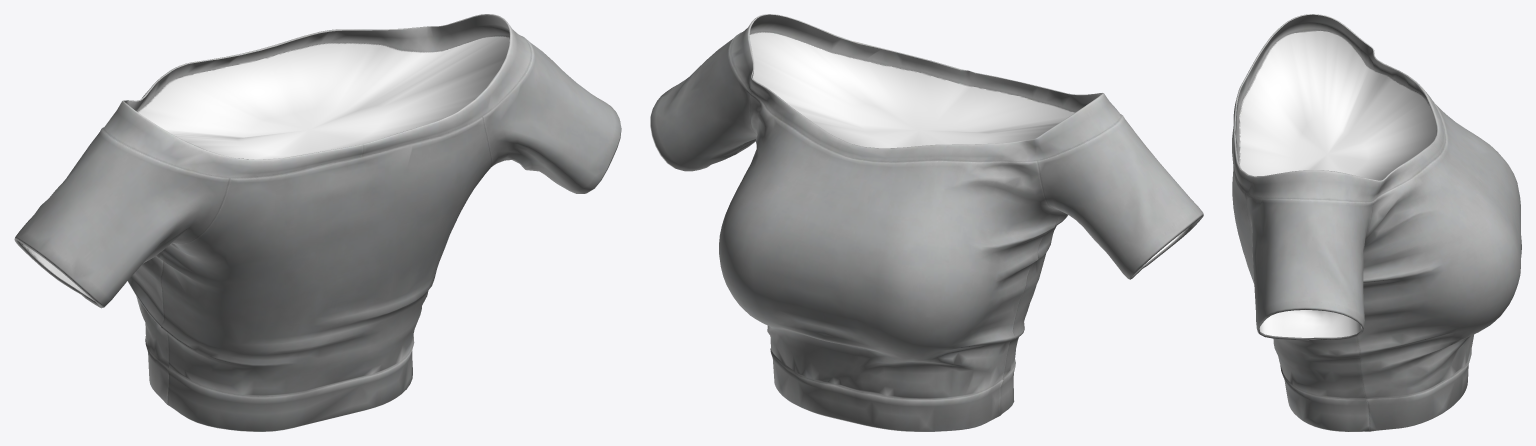
3 views of the same model, side by side, from view 1: azimuth 30°, elevation 25°; view 2: azimuth 150°, elevation 25°; view 3: azimuth 270°, elevation 25° (orthographic). The views are drawn at different scales.
Parts seen in each view (by area): view 1: Object_2; view 2: Object_2; view 3: Object_2.
Part boxes in pixels (x1=…): Object_2: x1=14, y1=14, x2=621, y2=431; Object_2: x1=650, y1=14, x2=1203, y2=431; Object_2: x1=1232, y1=14, x2=1521, y2=431.
Bounding box in the file's own units: 0.6111 × 0.3484 × 0.3084.
1 material, 1 textured.
